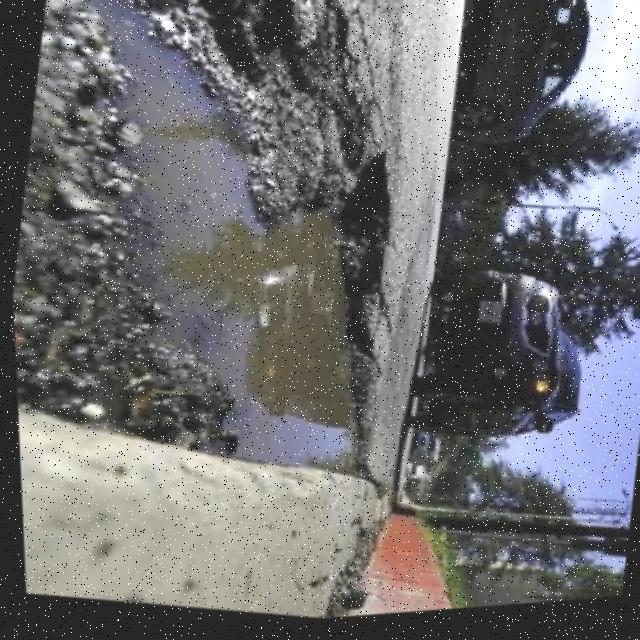pothole: (0, 0, 453, 509)
